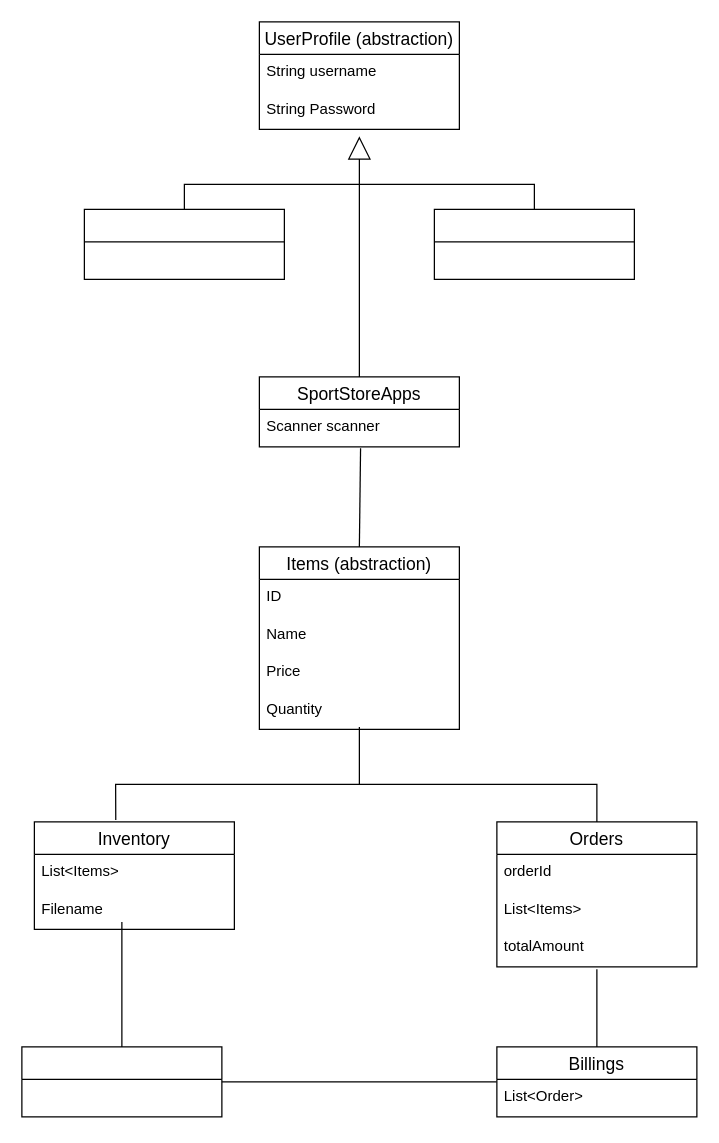
The diagram is 719 pixels wide and 1143 high, and some of its shapes have lost their labels. The centre of each missing label's shape, as x and y in pixels:
Admin: the point at 183,243
Customer: the point at 533,243
Report: the point at 121,1081
